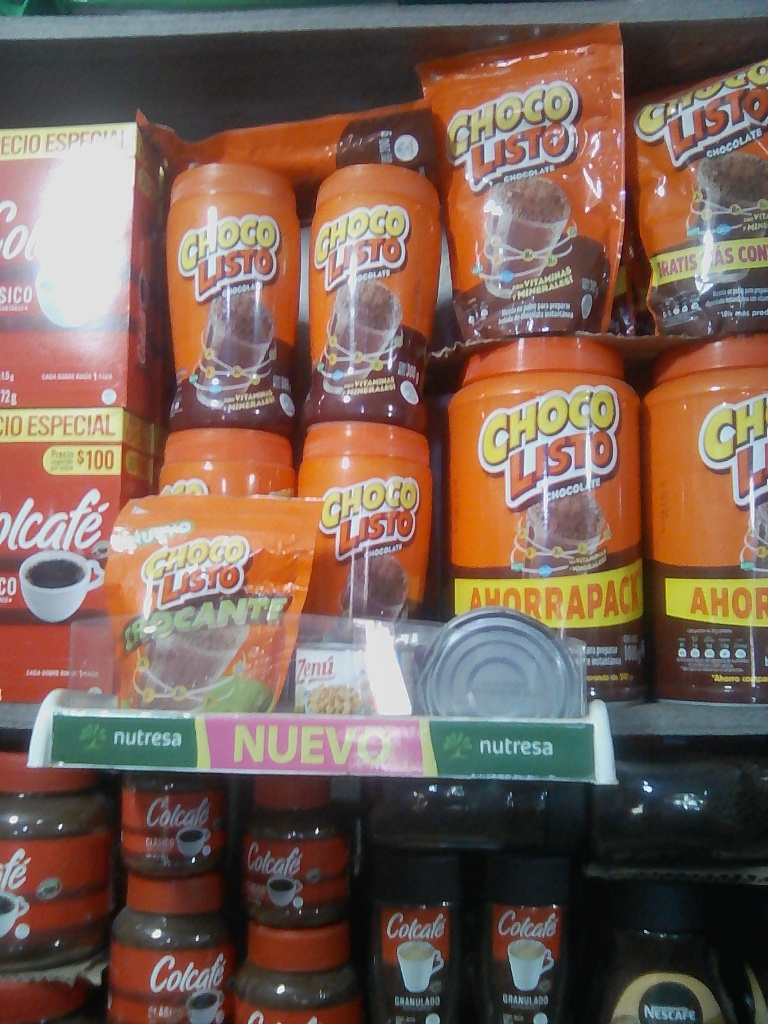COL0170102DYP10000: (110, 485, 331, 714)
COL0170103DYP20000: (410, 24, 630, 340)
COL0170103TRR00100: (436, 341, 649, 700)
COL0170103TRR30000: (150, 159, 295, 424)
